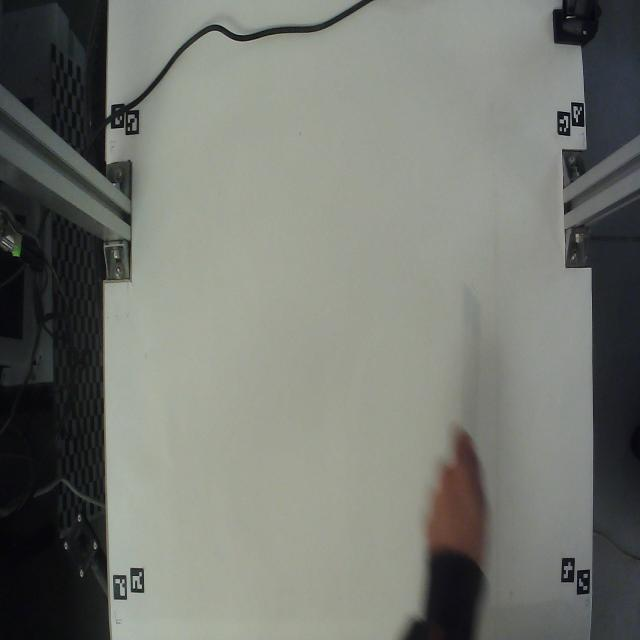NoPres: (455, 256, 497, 462)
